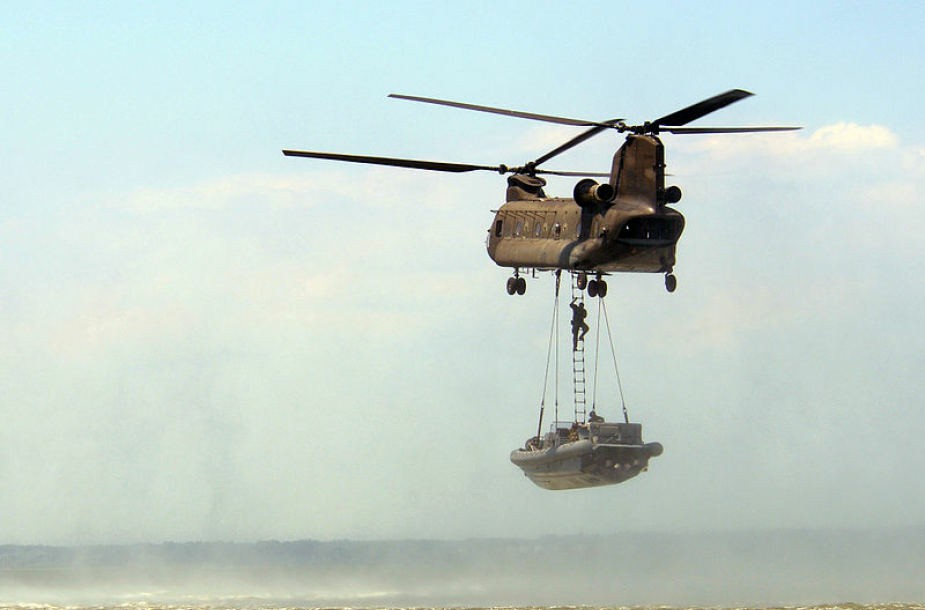chinook: (292, 89, 807, 296)
